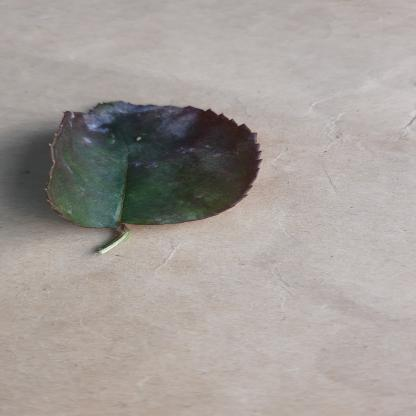powdery-mildew: (26, 101, 266, 232)
